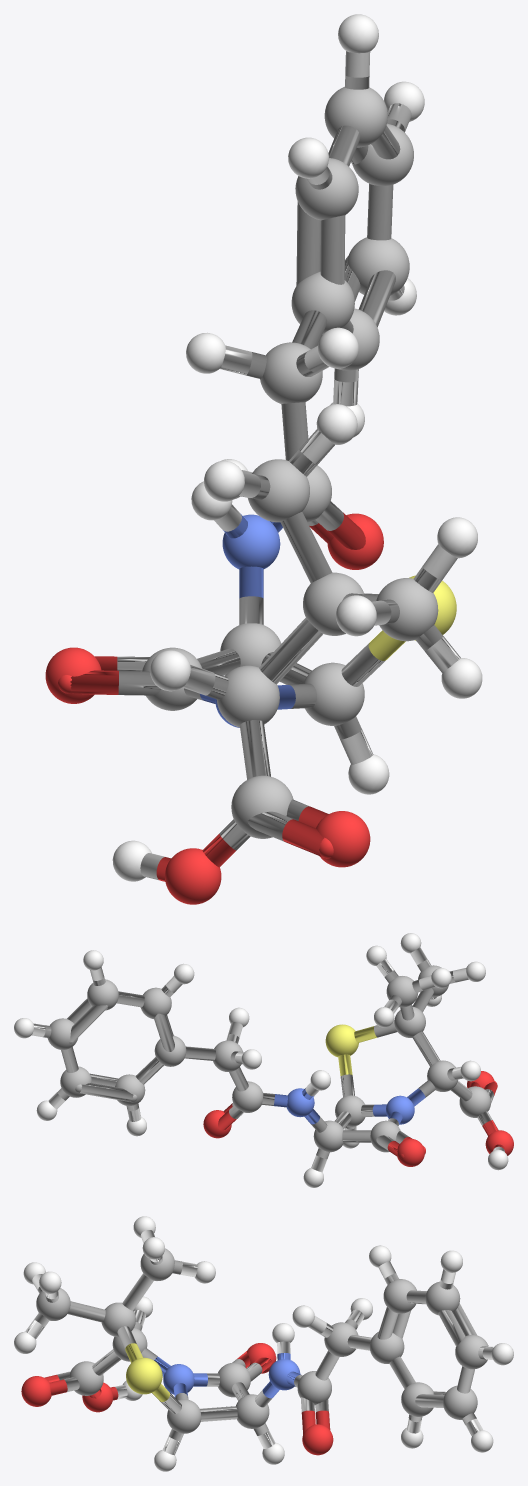
The model's file is Benzylpenicillin.fbx.
3 views of the same model, one above another, from view 1: azimuth 30°, elevation 25°; view 2: azimuth 150°, elevation 25°; view 3: azimuth 270°, elevation 25° (orthographic). The views are drawn at different scales.
Parts seen in each view (by area): view 1: C11_Atom; view 2: C11_Atom; view 3: C11_Atom.
Part boxes in pixels (box(x1,y1,x2,y2)): C11_Atom: box(45, 14, 482, 904); C11_Atom: box(14, 933, 513, 1187); C11_Atom: box(14, 1216, 513, 1471).
Size of the model in its own units: 327 by 257 by 402.
